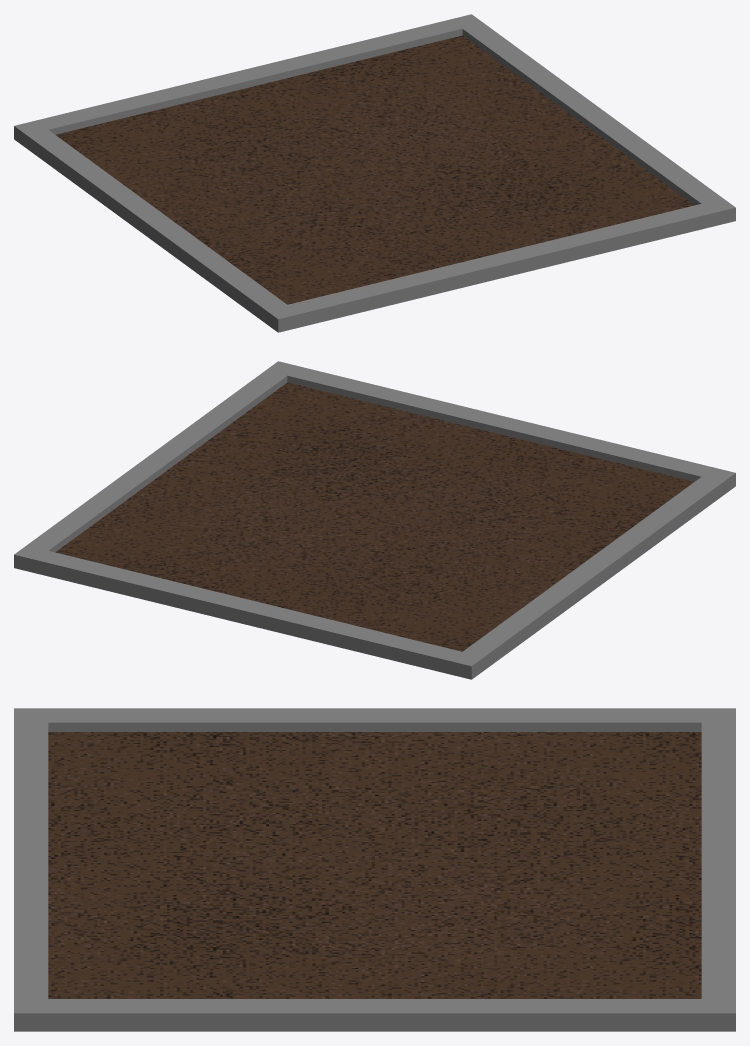
The model's file is MapV4.fbx.
3 renders of one model, top to bottom at view 1: azimuth 30°, elevation 25°; view 2: azimuth 150°, elevation 25°; view 3: azimuth 270°, elevation 25°, orthographic. The views are drawn at different scales.
Visible parts, largest first — view 1: Center, TopWall.001, TopWall, LeftWall, RightWall; view 2: Center, TopWall, TopWall.001, LeftWall, RightWall; view 3: Center, RightWall, LeftWall, TopWall, TopWall.001.
Part boxes in pixels (bbox=[...]): Center: bbox=[55, 35, 694, 304]; TopWall.001: bbox=[265, 198, 735, 332]; TopWall: bbox=[14, 14, 483, 148]; LeftWall: bbox=[26, 130, 286, 323]; RightWall: bbox=[462, 23, 722, 205]; Center: bbox=[55, 382, 694, 651]; TopWall: bbox=[14, 545, 484, 679]; TopWall.001: bbox=[266, 361, 735, 495]; LeftWall: bbox=[463, 477, 723, 670]; RightWall: bbox=[27, 370, 287, 552]; Center: bbox=[48, 732, 701, 998]; RightWall: bbox=[48, 999, 701, 1031]; LeftWall: bbox=[48, 708, 701, 731]; TopWall: bbox=[701, 708, 735, 1031]; TopWall.001: bbox=[14, 708, 48, 1031].
Size of the model in its own units: 16800 by 472 by 16800.
